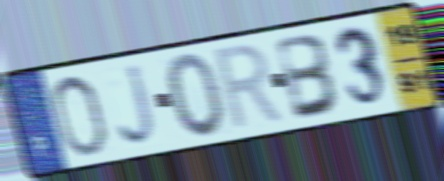3: (333, 23, 394, 113)
B: (273, 31, 342, 124)
J: (116, 60, 160, 149)
O: (164, 51, 228, 143), (49, 71, 110, 160)
R: (211, 40, 289, 136)
